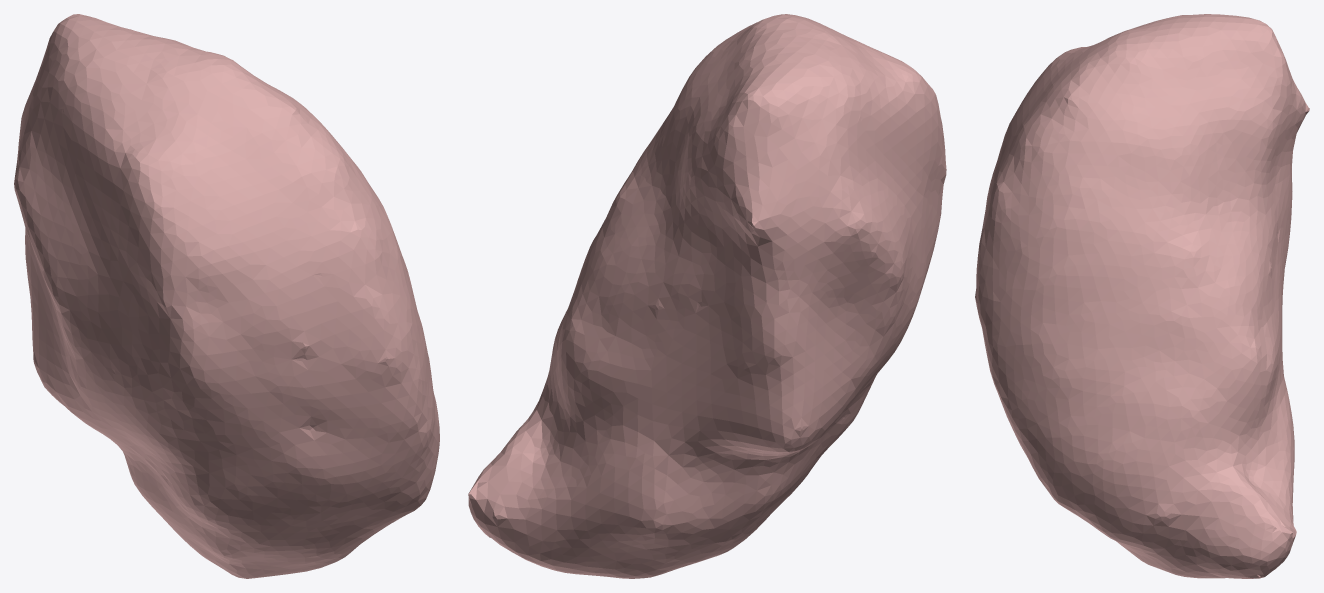
Rendered from Right_Thalamus.glb.
3 renders of one model, left to right at view 1: azimuth 30°, elevation 25°; view 2: azimuth 150°, elevation 25°; view 3: azimuth 270°, elevation 25°, orthographic. The views are drawn at different scales.
Parts seen in each view (by area): view 1: world; view 2: world; view 3: world.
Boxes of the visible parts, box(x1,y1,x2,y2) form: world: box(14, 14, 439, 578); world: box(468, 14, 946, 578); world: box(975, 14, 1309, 578).
Bounding box in the file's own units: 24.97 × 35.26 × 22.74.
